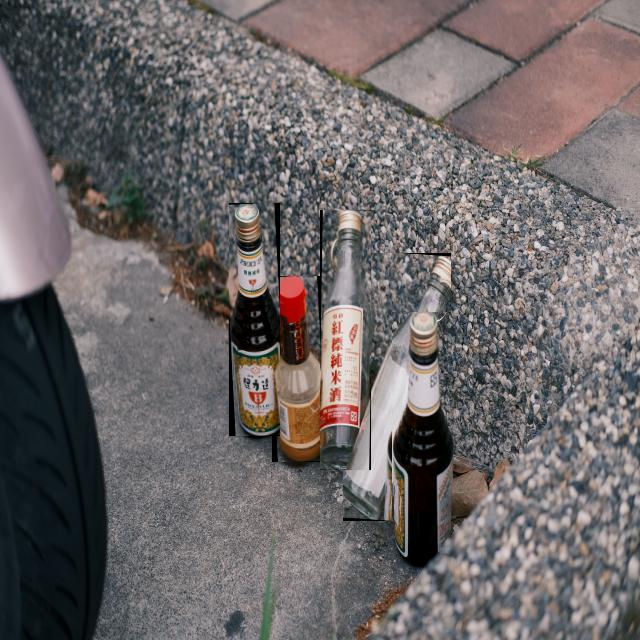Bottle: (393, 312, 453, 566), (344, 319, 410, 520), (321, 211, 370, 469), (229, 204, 280, 435), (272, 276, 321, 462)
